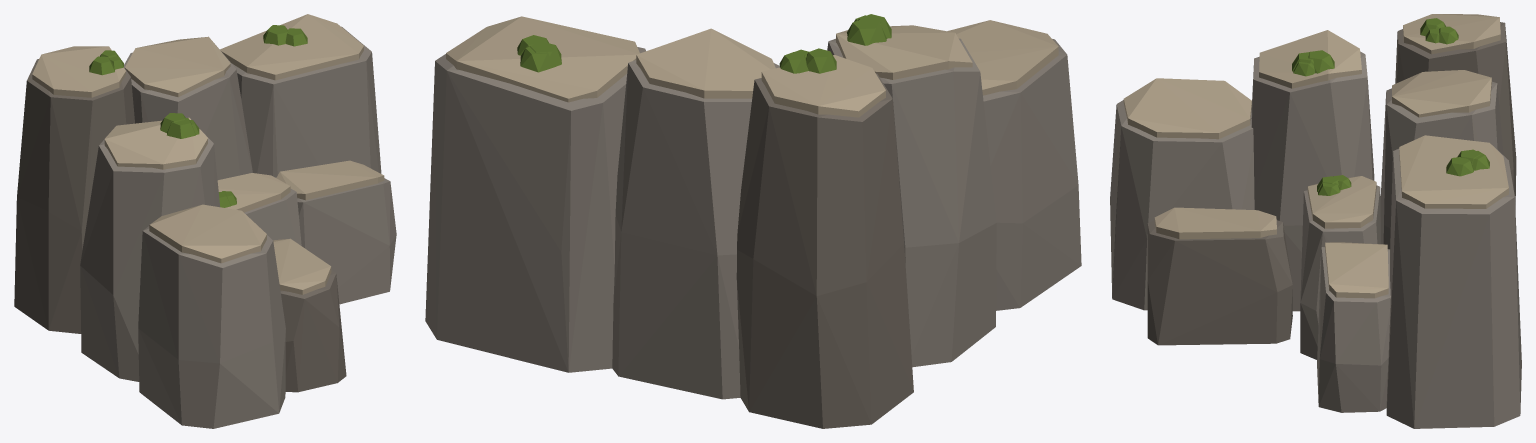
The model's file is Cliff_Corner.fbx.
The picture shows the model from 3 angles, left to right: view 1: azimuth 30°, elevation 25°; view 2: azimuth 150°, elevation 25°; view 3: azimuth 270°, elevation 25°; orthographic projection. The views are drawn at different scales.
Parts seen in each view (by area): view 1: Cliff, RockLight, CliffDark, Moss; view 2: Cliff, CliffDark, RockLight, Moss; view 3: Cliff, RockLight, CliffDark, Moss.
Boxes of the visible parts, left/top/right/bottom form: Cliff: left=80, top=26, right=396, bottom=428; RockLight: left=32, top=14, right=384, bottom=294; CliffDark: left=14, top=59, right=346, bottom=392; Moss: left=89, top=25, right=307, bottom=207; Cliff: left=425, top=38, right=1081, bottom=399; CliffDark: left=736, top=73, right=913, bottom=428; RockLight: left=446, top=16, right=1058, bottom=117; Moss: left=517, top=14, right=891, bottom=73; Cliff: left=1110, top=51, right=1521, bottom=428; RockLight: left=1123, top=14, right=1508, bottom=298; CliffDark: left=1147, top=22, right=1516, bottom=345; Moss: left=1292, top=18, right=1489, bottom=195.
Size of the model in its own units: 12.52 by 8.78 by 12.39.
